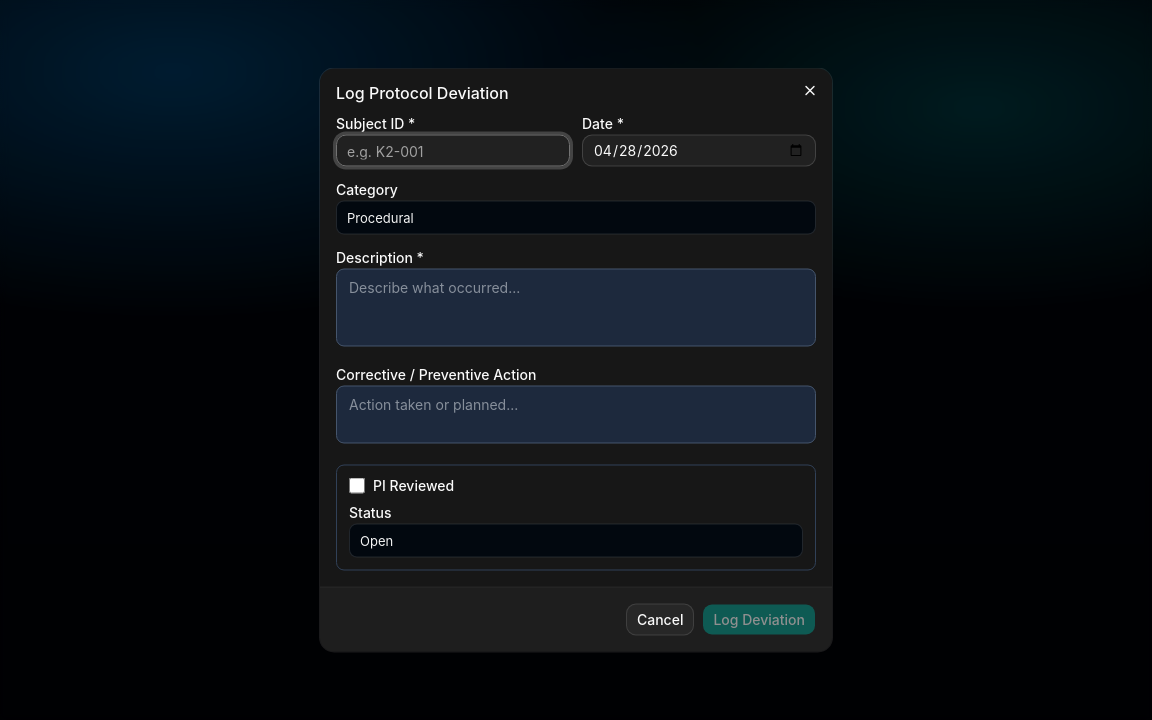
Test: DeviationForm › enables save when subject and description filled
Type "K2-001" into the field labelled "Subject ID *" at (453, 150), box x1=336 y1=134 x2=570 y2=166
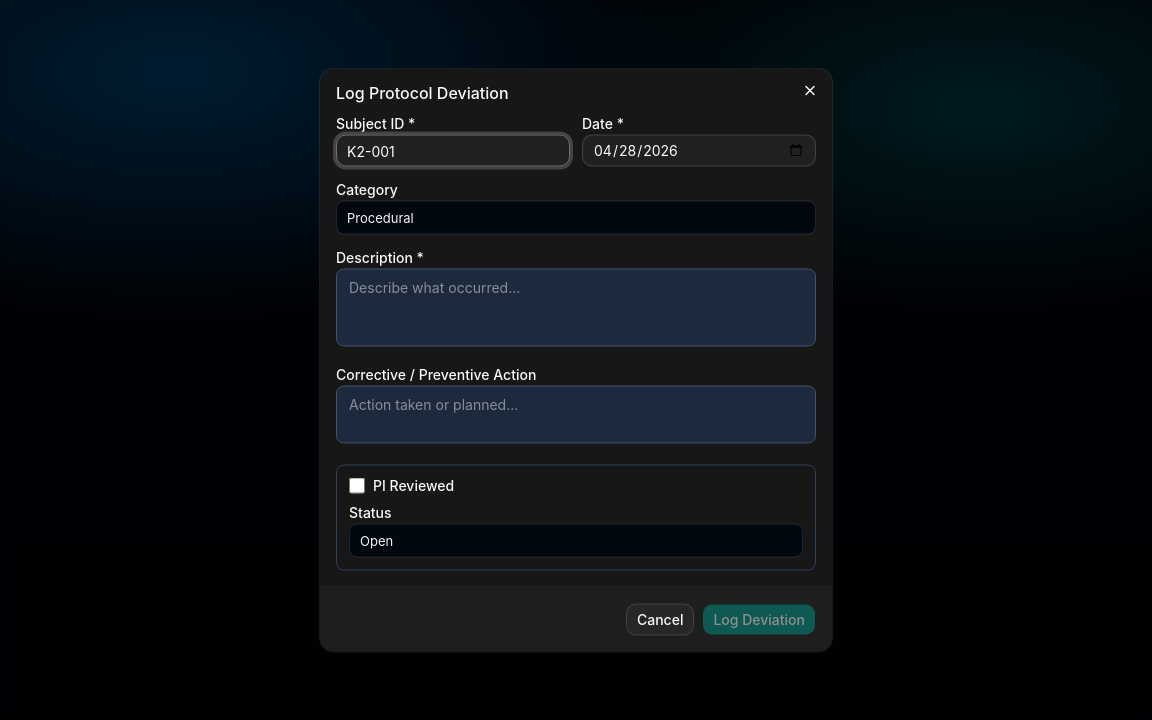
Type "Missed window" into the text box labelled "Description *" at (576, 308), box x1=336 y1=268 x2=816 y2=346
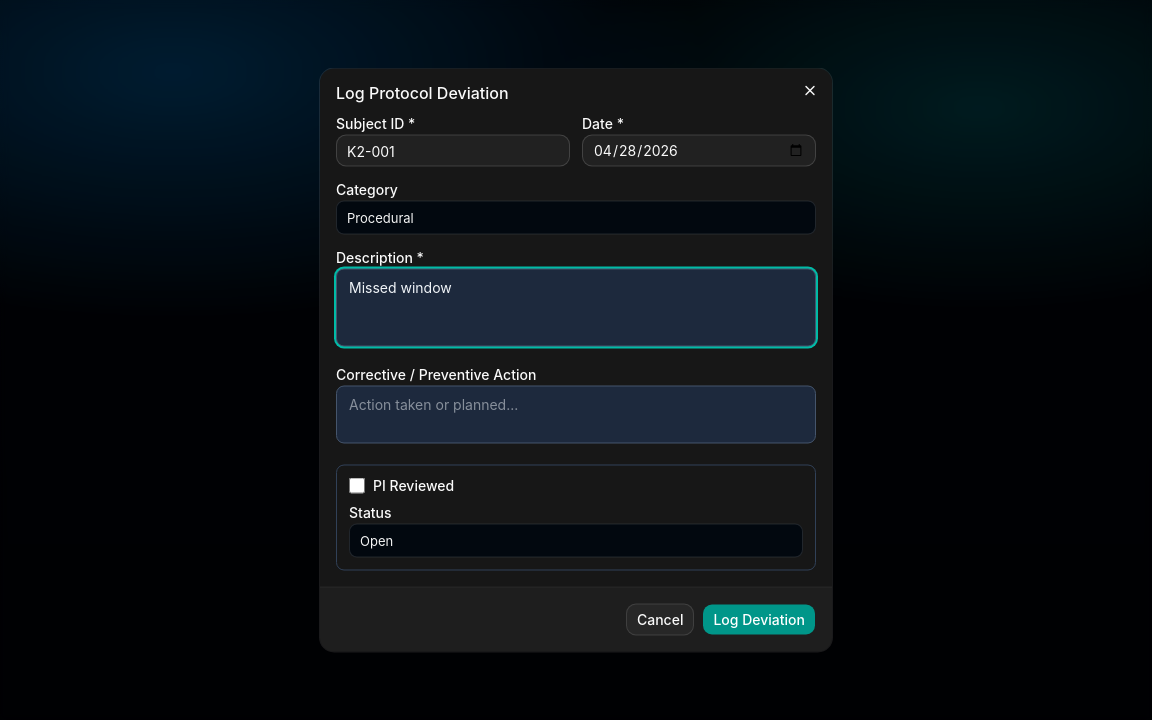
Expected: the button "Log Deviation" is enabled, x1=702 y1=604 x2=816 y2=636
